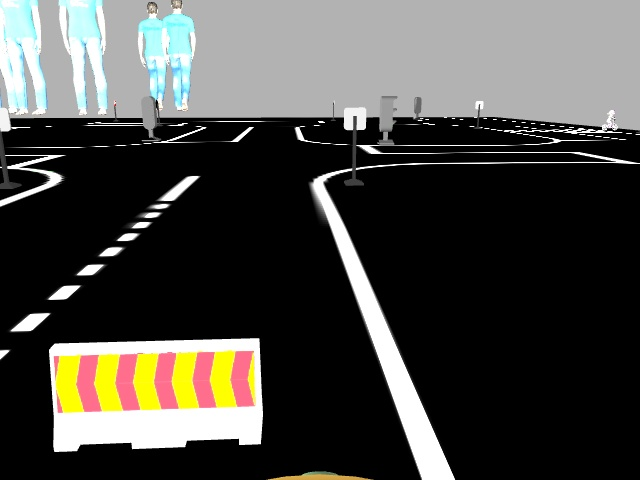ClosedRoadStand: (50, 347, 258, 442)
